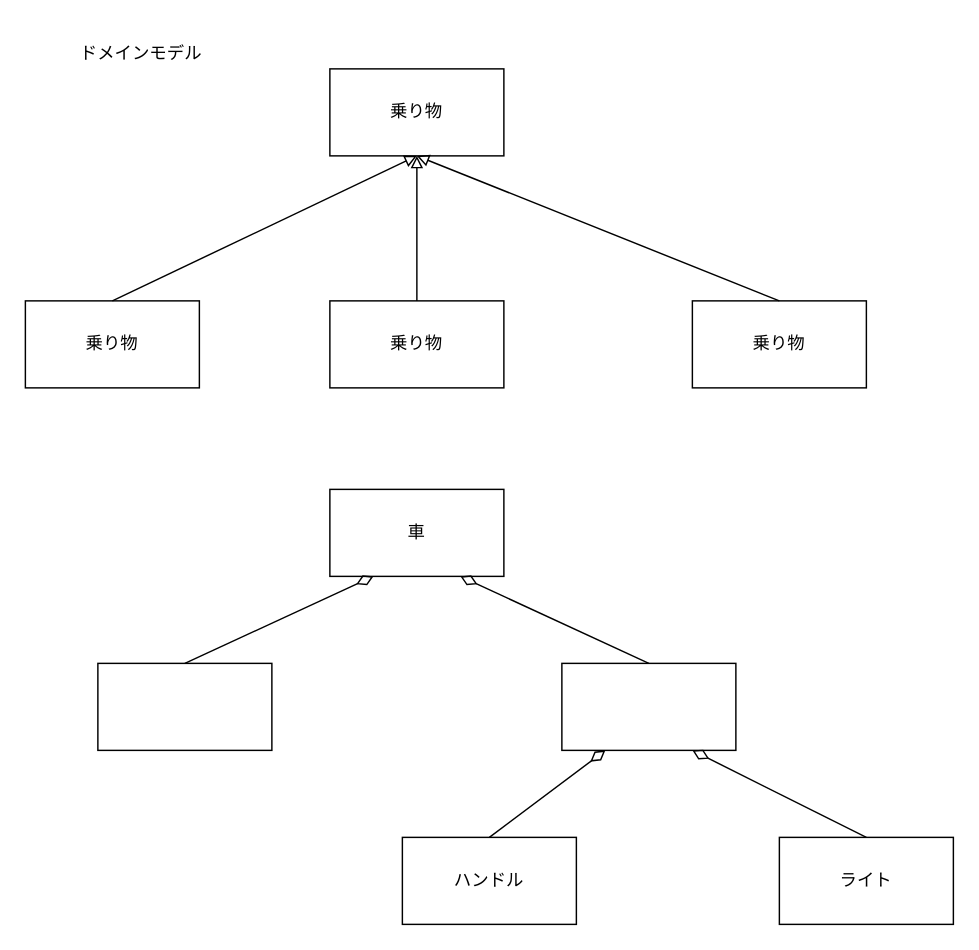
The diagram is 979 pixels wide and 950 high, and some of its shapes have lost their labels. The shapes that lost their labels are listed below. From the top down, each one's box as (x1, y1, x2, y2) in pixels, then its label:
(96, 662, 272, 750): エンジン
(560, 662, 736, 750): ボディ
